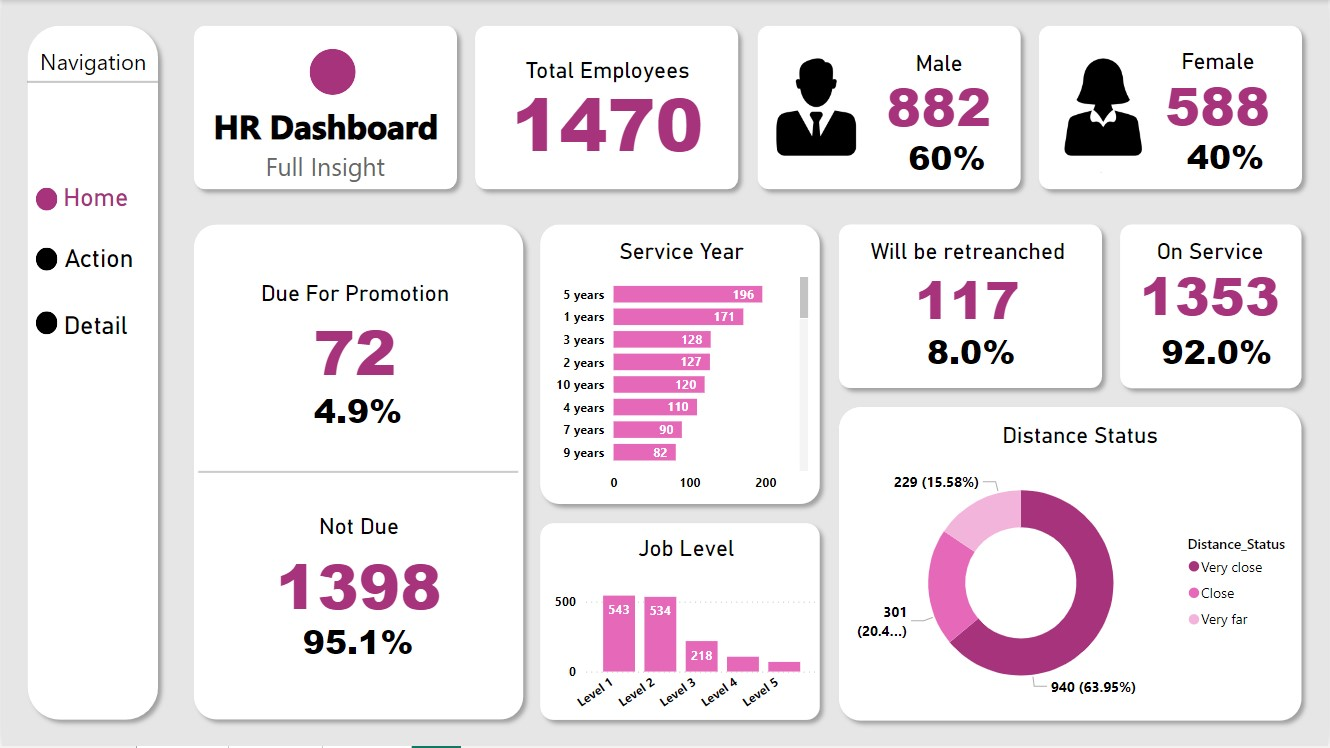

The page's visual inventory and layout, read from the dashboard file:
{"tool":"powerbi","page":{"name":"Home","canvas":[1280,720],"ordinal":0},"visuals":[{"type":"shape","box":[16,16,144,688],"z":0},{"type":"shape","box":[992,16,272,176],"z":1000},{"type":"shape","box":[720,16,272,176],"z":2000},{"type":"shape","box":[448,16,272,176],"z":3000},{"type":"shape","box":[176,16,272,176],"z":4000},{"type":"shape","box":[176,208,336,496],"z":5000},{"type":"shape","box":[510.6,208,288,288],"z":6000},{"type":"shape","box":[510.6,496,288,208],"z":7000},{"type":"shape","box":[798.6,208,272,176],"z":8000},{"type":"shape","box":[1070.1,207.5,193,176.1],"z":9000},{"type":"shape","box":[798.7,383.6,464.5,320.9],"z":10000},{"type":"textbox","box":[191.8,139.9,240.1,48.3],"z":11000},{"type":"card","title":"Total Employees","fields":{"Values":["All_Measures.Total_Emp"]},"box":[464.5,55.5,240.1,96.5],"z":12000},{"type":"card","title":"Male","fields":{"Values":["All_Measures.Male"]},"box":[832,48,144,80],"z":13000},{"type":"card","title":"Male","fields":{"Values":["All_Measures.% Male"]},"box":[848,96,128,112],"z":14000},{"type":"card","title":"Female","fields":{"Values":["All_Measures.Female"]},"box":[1101.7,46.9,144,80],"z":15000},{"type":"columnChart","title":"Job Level","fields":{"Y":["All_Measures.Total_Emp"],"Category":["HR Analytics Data.Job Levels"]},"box":[528.4,516.4,264.2,187],"z":16000},{"type":"image","box":[727.5,38.6,120.6,133.9],"z":17000},{"type":"image","box":[1001.3,38.6,126.7,133.9],"z":18000},{"type":"card","title":"Not Due","fields":{"Values":["All_Measures.Not_Due"]},"box":[198.9,496.2,290.8,107.4],"z":19000},{"type":"card","title":"Male","fields":{"Values":["All_Measures.% Not_Due"]},"box":[279.9,563.4,127.9,112.2],"z":20000},{"type":"card","title":"Due For Promotion","fields":{"Values":["All_Measures.Due_For_Promotion"]},"box":[195.4,270.7,290.8,107.4],"z":21000},{"type":"card","title":"Male","fields":{"Values":["All_Measures.% Due_For_Promotion"]},"box":[279.9,340.2,127.9,112.2],"z":22000},{"type":"shape","box":[189.4,427.1,308.8,56.7],"z":23000},{"type":"textbox","box":[199.1,95.3,240.1,59.1],"z":24000},{"type":"barChart","title":"Service Year","fields":{"Y":["All_Measures.Total_Emp"],"Category":["HR Analytics Data.Service_Year"]},"box":[528.4,230.4,254.6,253.4],"z":25000},{"type":"card","title":"Male","fields":{"Values":["All_Measures.% Female"]},"box":[1117.2,95.3,127.9,112.2],"z":26000},{"type":"card","title":"On Service","fields":{"Values":["All_Measures.On_Service"]},"box":[1090.6,230.4,150.8,80.8],"z":27000},{"type":"card","title":"Male","fields":{"Values":["All_Measures.% On_Service"]},"box":[1090.6,283.5,164.1,112.2],"z":28000},{"type":"card","title":"Will be retreanched","fields":{"Values":["All_Measures.Will_be_retreanched"]},"box":[832.4,230.4,199.1,89.3],"z":29000},{"type":"card","title":"Male","fields":{"Values":["All_Measures.% Will_be_retreanched"]},"box":[855.4,283.5,160.5,112.2],"z":30000},{"type":"donutChart","title":"Distance Status","fields":{"Category":["HR Analytics Data.Distance_Status"],"Y":["All_Measures.Total_Emp"]},"box":[818,407.8,445.2,285.9],"z":31000},{"type":"shape","box":[296.8,47.1,44.6,44.6],"z":32000},{"type":"actionButton","title":"Home","box":[29.2,176.1,123.1,30.2],"z":33000},{"type":"actionButton","title":"Action","box":[27.7,235.5,131.5,25.3],"z":34000},{"type":"actionButton","title":"Detail","box":[29.2,300.4,123.1,24.1],"z":35000},{"type":"shape","box":[32.4,180.4,21.1,22.4],"z":36000},{"type":"shape","box":[32.4,238.4,21.1,22.4],"z":37000},{"type":"shape","box":[32.4,300.4,21.1,22.4],"z":38000},{"type":"shape","box":[24.1,71.4,126.7,15.7],"z":39000},{"type":"textbox","box":[22.9,39.8,130.3,39.8],"z":40000}]}

Visuals, with their boxes in screenshot pixels (x1, y1, x2, y2), scaled from the page's 1280x720 canvas onto the 1330x748 screenshot:
shape: 17/17/166/731
shape: 1031/17/1313/199
shape: 748/17/1031/199
shape: 466/17/748/199
shape: 183/17/466/199
shape: 183/216/532/731
shape: 531/216/830/515
shape: 531/515/830/731
shape: 830/216/1112/399
shape: 1112/216/1312/399
shape: 830/399/1313/732
textbox: 199/145/449/196
"Total Employees" card: 483/58/732/158
"Male" card: 864/50/1014/133
"Male" card: 881/100/1014/216
"Female" card: 1145/49/1294/132
"Job Level" columnChart: 549/536/824/731
image: 756/40/881/179
image: 1040/40/1172/179
"Not Due" card: 207/515/509/627
"Male" card: 291/585/424/702
"Due For Promotion" card: 203/281/505/393
"Male" card: 291/353/424/470
shape: 197/444/518/503
textbox: 207/99/456/160
"Service Year" barChart: 549/239/814/503
"Male" card: 1161/99/1294/216
"On Service" card: 1133/239/1290/323
"Male" card: 1133/295/1304/411
"Will be retreanched" card: 865/239/1072/332
"Male" card: 889/295/1056/411
"Distance Status" donutChart: 850/424/1313/721
shape: 308/49/355/95
"Home" actionButton: 30/183/158/214
"Action" actionButton: 29/245/165/271
"Detail" actionButton: 30/312/158/337
shape: 34/187/56/211
shape: 34/248/56/271
shape: 34/312/56/335
shape: 25/74/157/90
textbox: 24/41/159/83
